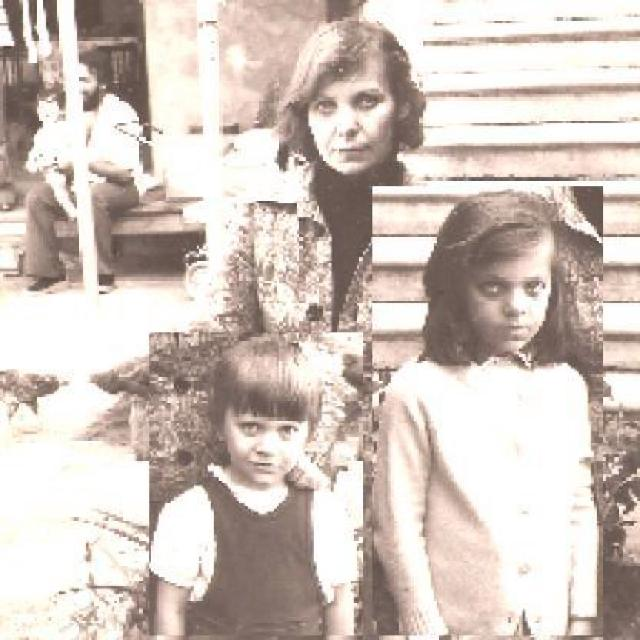child: (371, 186, 603, 637), (148, 332, 363, 637), (23, 88, 106, 221)
